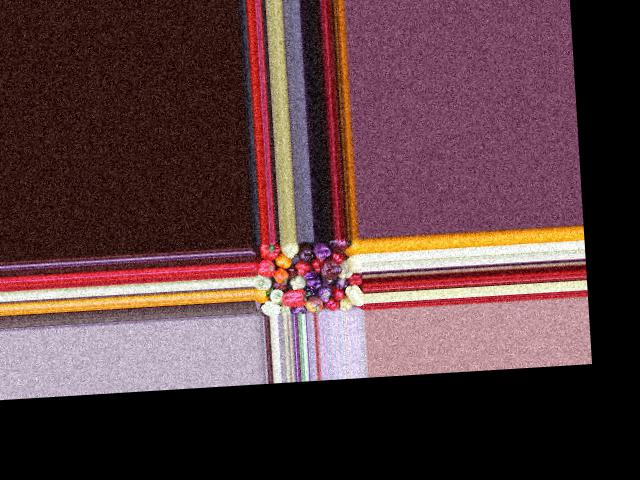bell_pepper: (253, 274, 273, 288)
